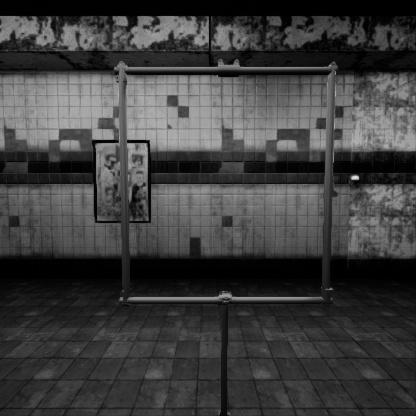gate: (119, 109, 356, 349)
